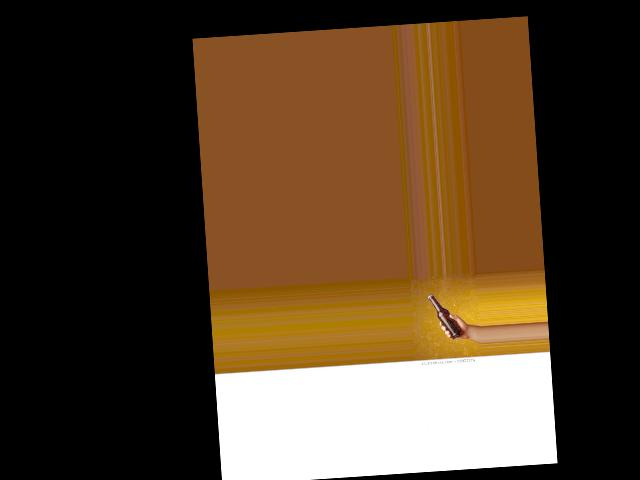beer: (427, 292, 464, 340)
